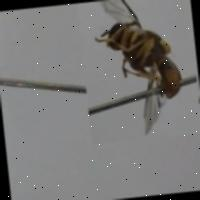Oriental-fruit-fly: (75, 0, 200, 143)
